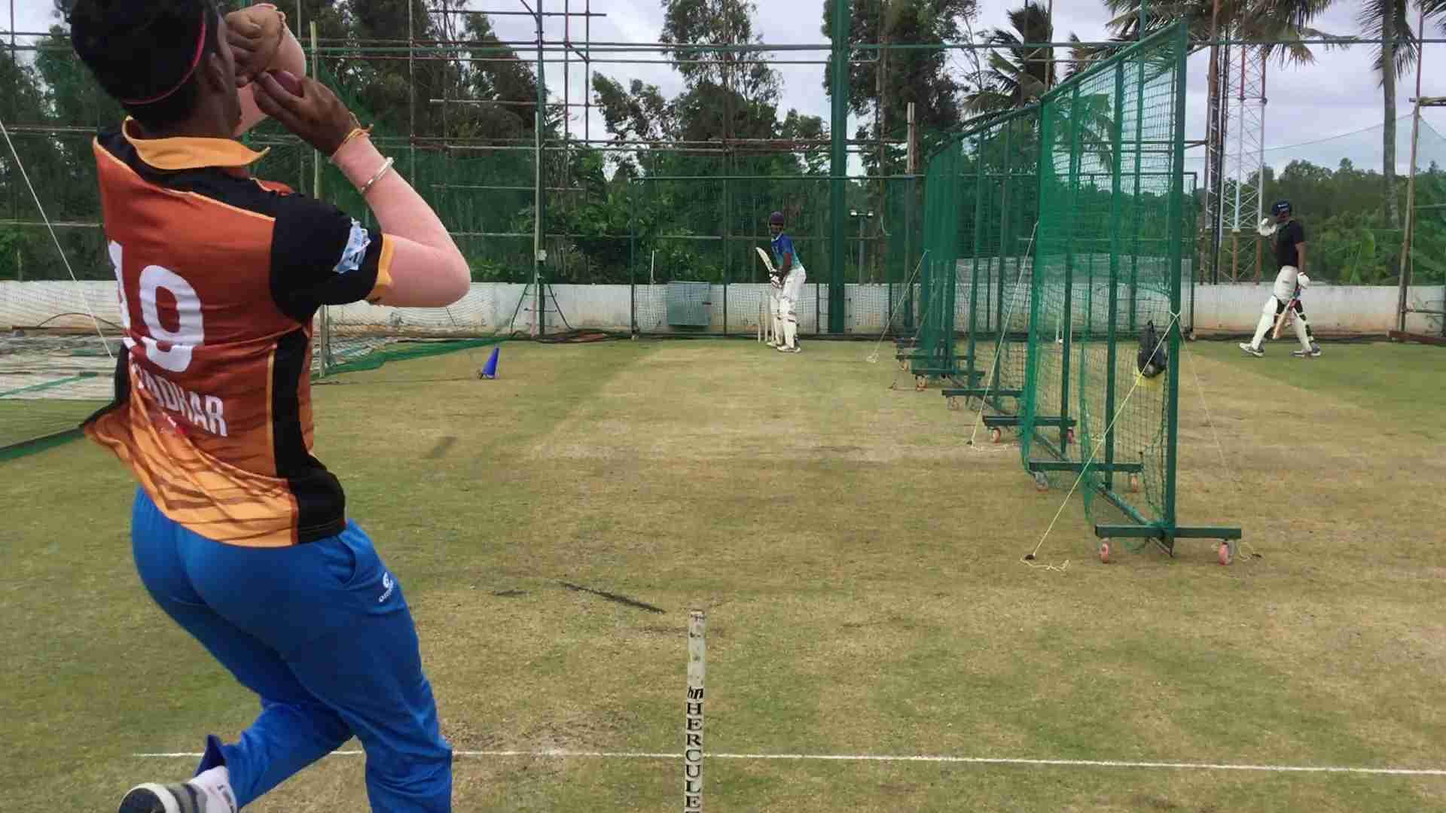batsman: (755, 206, 812, 360)
